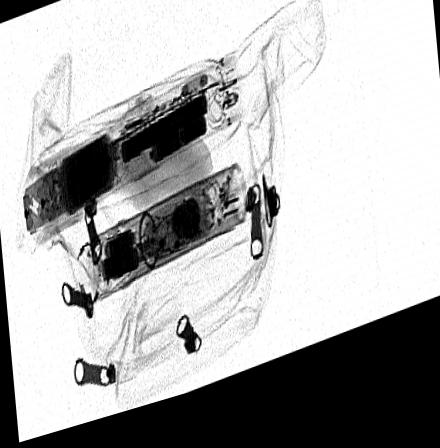Baton: (18, 66, 245, 250), (73, 175, 249, 311)
